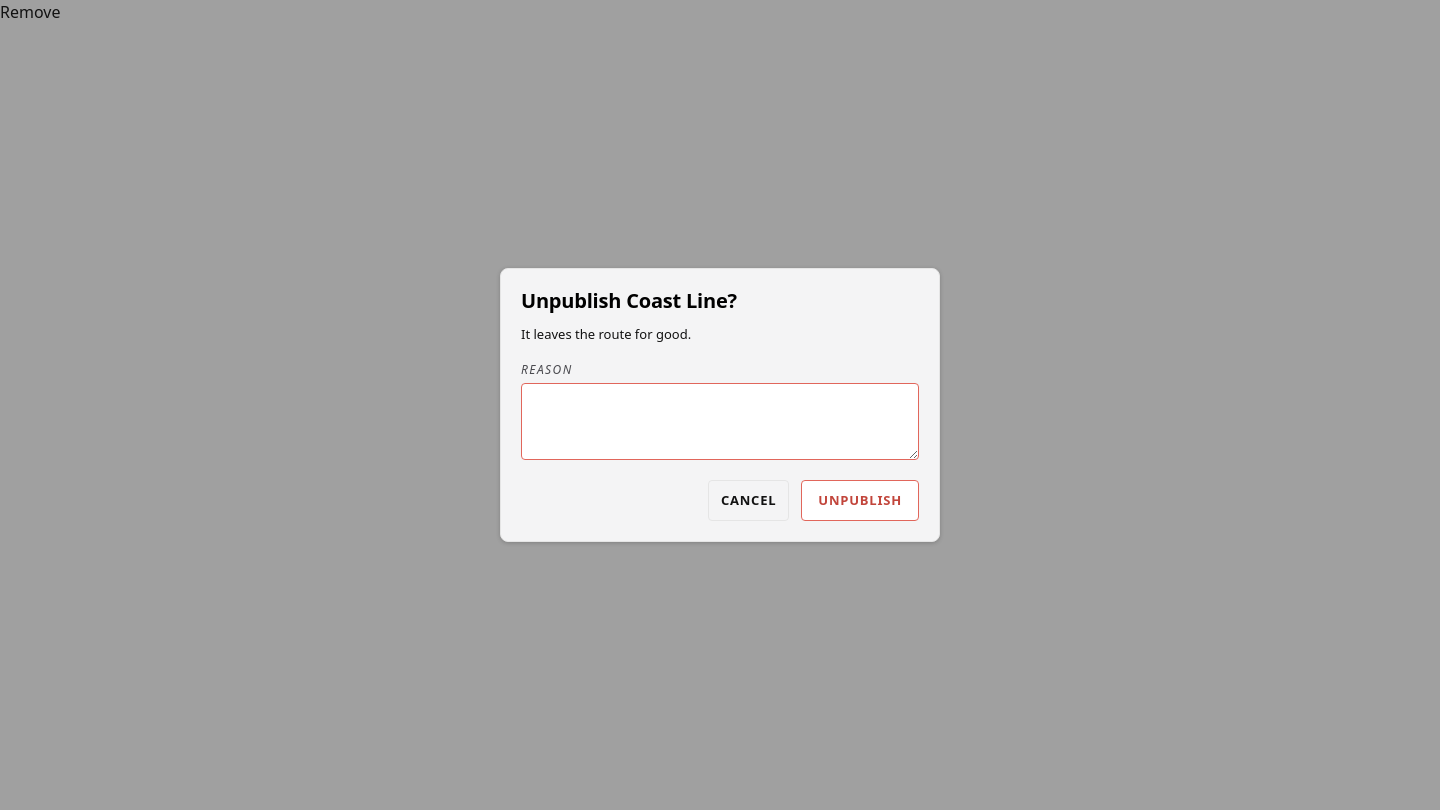
Test: ConfirmDialog › with a note › starts each ask with an empty note
In the text box with test id "confirm-dialog-note": [720, 421] box top-left (521, 382), bottom-right (919, 460), type "first"
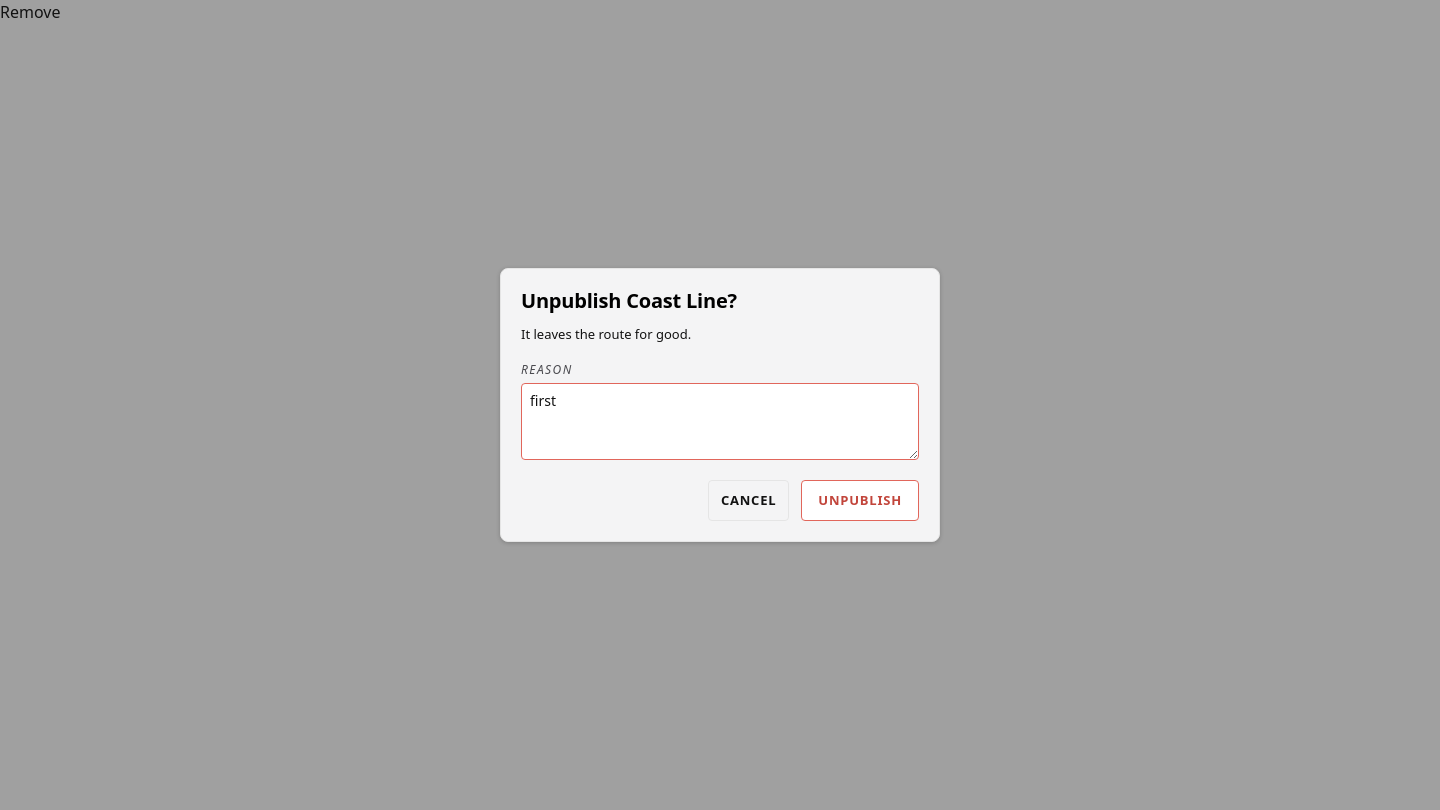
Click the button with test id "confirm-dialog-cancel": [749, 500] box top-left (708, 480), bottom-right (789, 521)
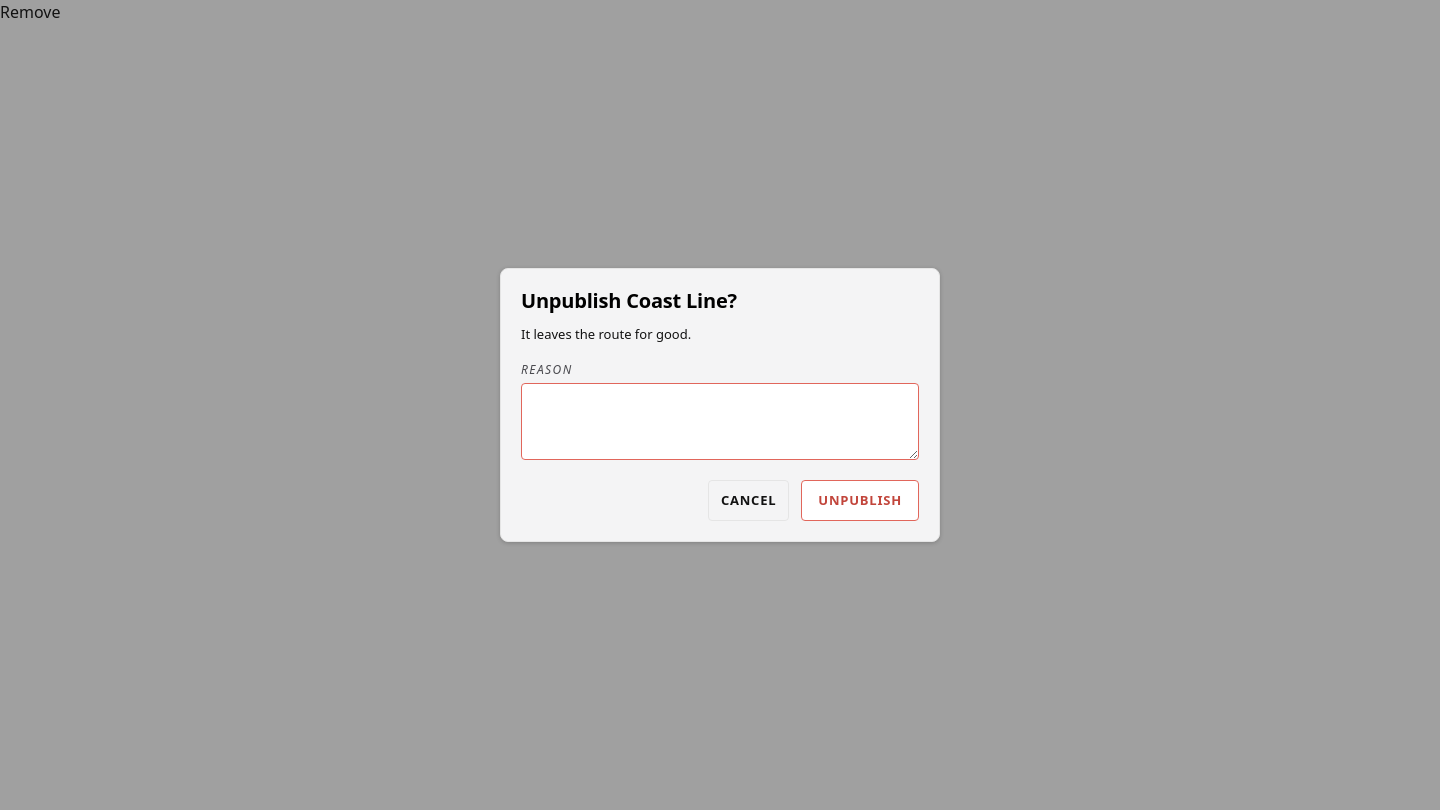
Result: the text box with test id "confirm-dialog-note" is empty at top-left (521, 382), bottom-right (919, 460)
